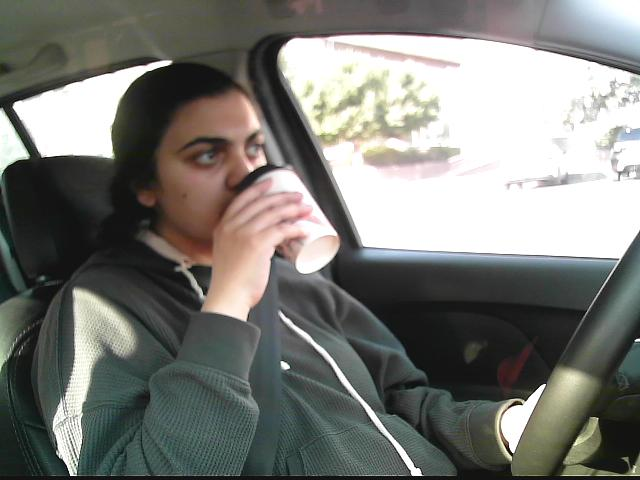Drinking: (132, 88, 340, 299)
